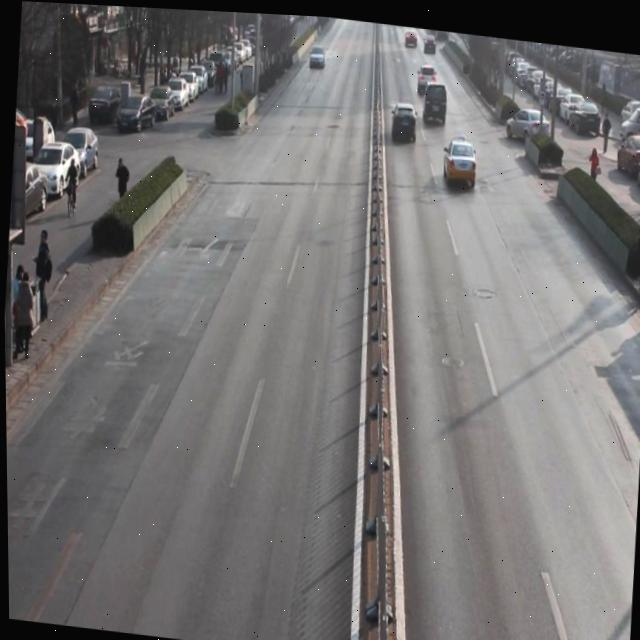car: (437, 130, 479, 190), (389, 94, 418, 142), (306, 36, 328, 72), (419, 65, 438, 92)
truck: (422, 77, 450, 125)
